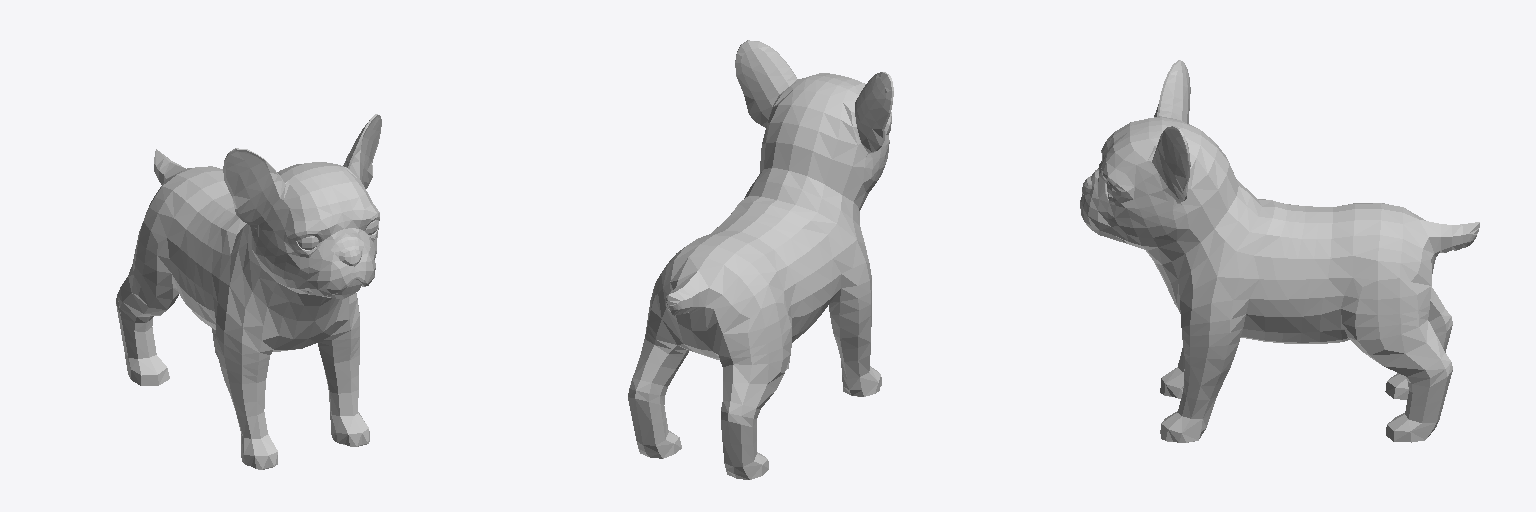
Rendered from french_bulldog.obj.
The picture shows the model from 3 angles: view 1: azimuth 30°, elevation 25°; view 2: azimuth 150°, elevation 25°; view 3: azimuth 270°, elevation 25°; orthographic projection.
Parts seen in each view (by area): view 1: TopN; view 2: TopN; view 3: TopN.
Part boxes in pixels (left/top/right/bottom): TopN: left=116, top=114, right=381, bottom=469; TopN: left=628, top=40, right=893, bottom=479; TopN: left=1080, top=60, right=1479, bottom=442.
Size of the model in its own units: 2.48 by 4.83 by 5.43.